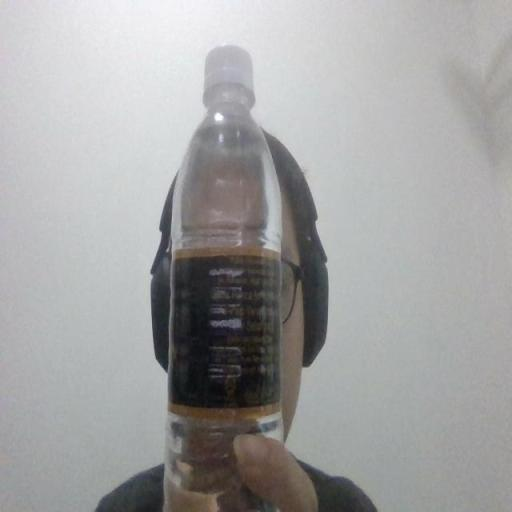plastic: (151, 46, 284, 511)
